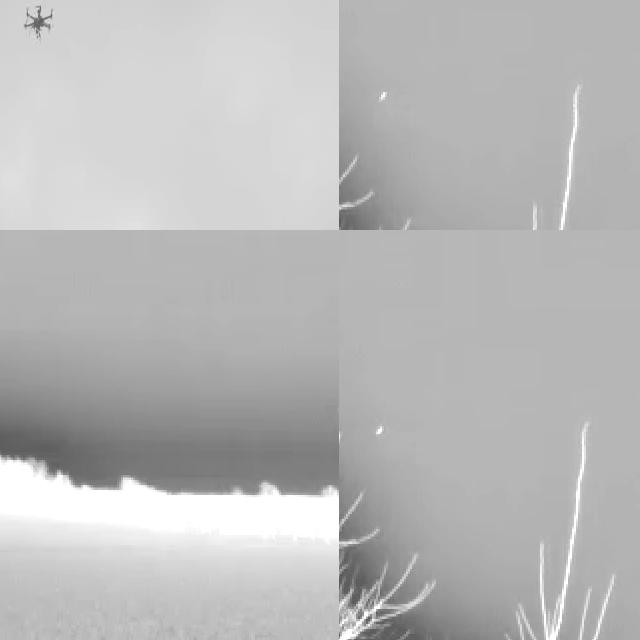0: (367, 82, 401, 114), (368, 418, 396, 450)
1: (328, 396, 339, 433)
drone: (20, 1, 56, 46)
